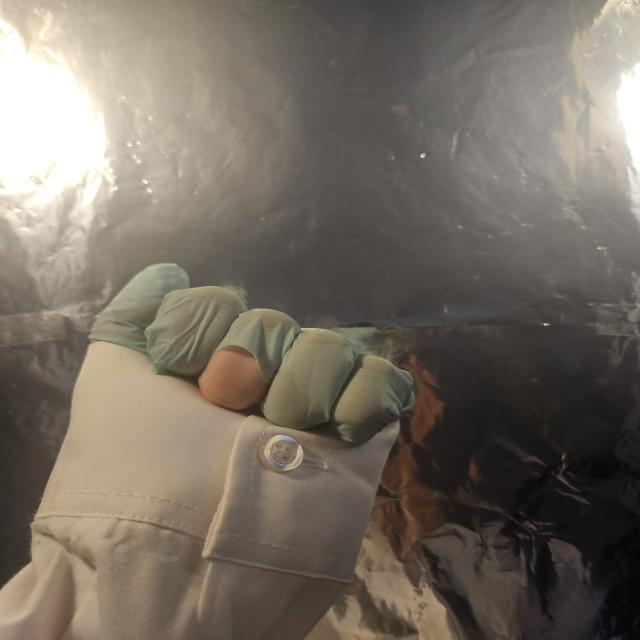gloves_damaged: (82, 258, 420, 451)
